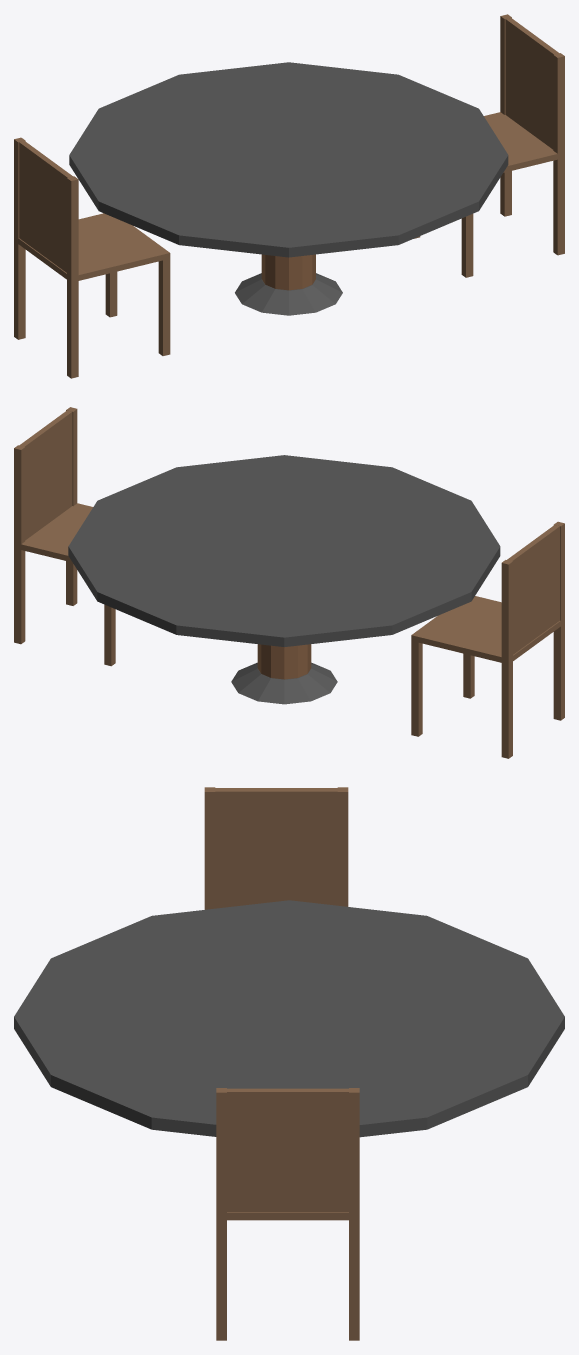
File: Table and Chairs.fbx
The picture shows the model from 3 angles, top to bottom: view 1: azimuth 30°, elevation 25°; view 2: azimuth 150°, elevation 25°; view 3: azimuth 270°, elevation 25°; orthographic projection. The views are drawn at different scales.
Visible parts, largest first — view 1: Table.001, Chair.002, Chair.003; view 2: Table.001, Chair.002, Chair.003; view 3: Table.001, Chair.003, Chair.002.
Part boxes in pixels (x1,y1,x2,y2): Table.001: [69, 62, 508, 315]; Chair.002: [14, 137, 170, 378]; Chair.003: [414, 14, 564, 277]; Table.001: [68, 455, 500, 704]; Chair.002: [411, 521, 564, 758]; Chair.003: [14, 407, 115, 666]; Table.001: [14, 900, 564, 1137]; Chair.003: [216, 1088, 359, 1340]; Chair.002: [204, 787, 348, 909].
Bounding box in the file's own units: 143 × 54.41 × 109.
